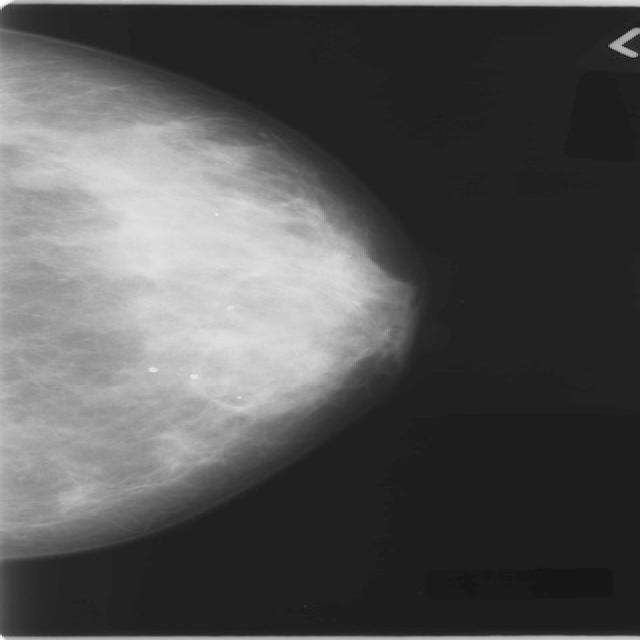tumour: (6, 160, 78, 190)
